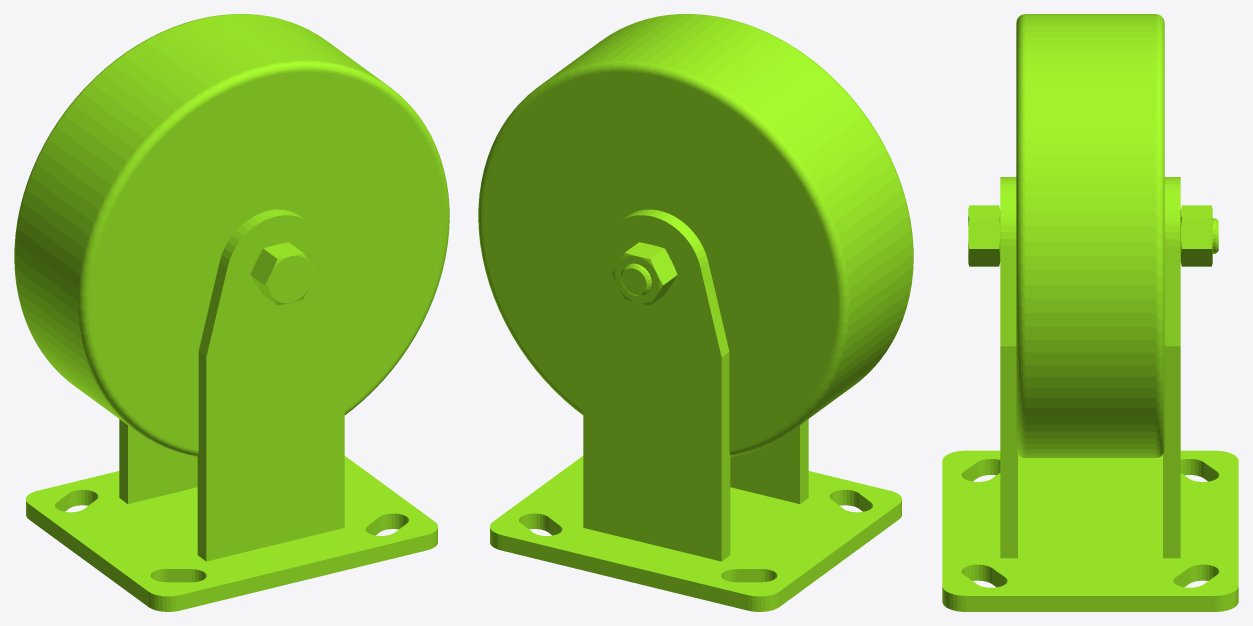
3 views of the same model, side by side, from view 1: azimuth 30°, elevation 25°; view 2: azimuth 150°, elevation 25°; view 3: azimuth 270°, elevation 25° (orthographic). The views are drawn at different scales.
Bounding box in the file's own units: 150 × 188 × 100.
